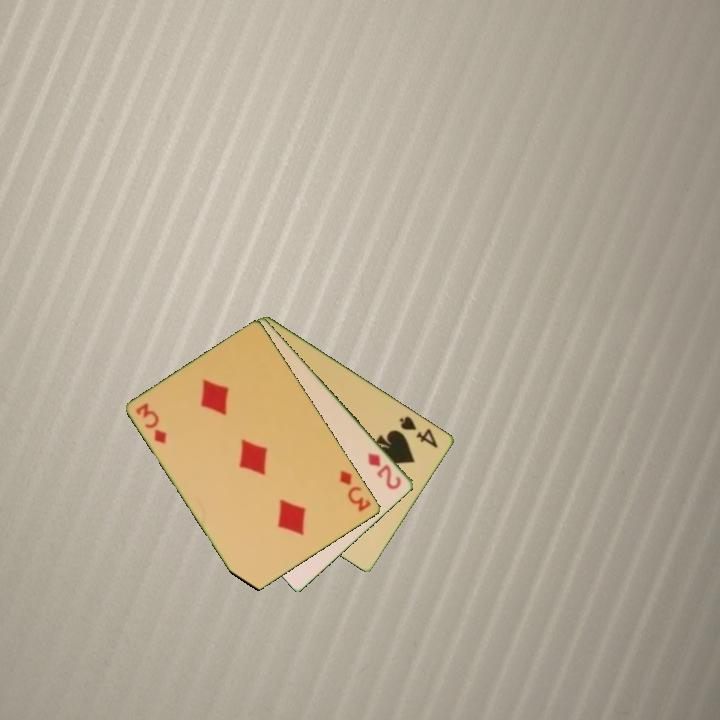2d: (364, 449, 405, 492)
3d: (336, 467, 374, 515), (132, 399, 170, 447)
4s: (396, 412, 441, 451)
